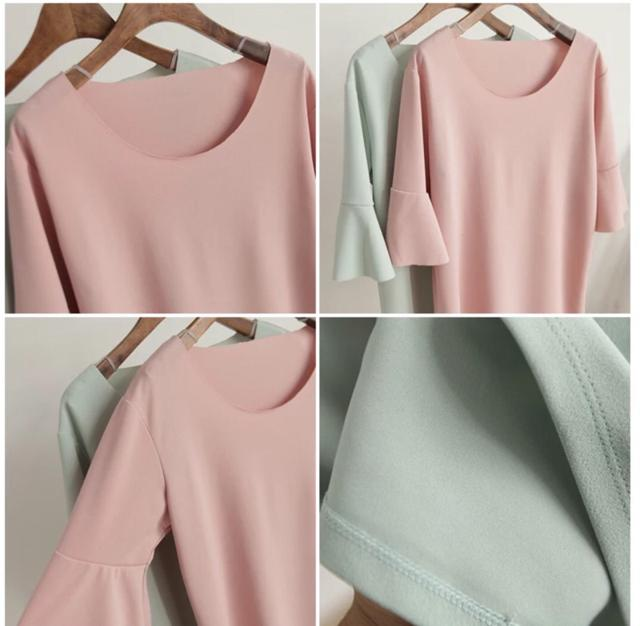Tops: (392, 30, 619, 312)
